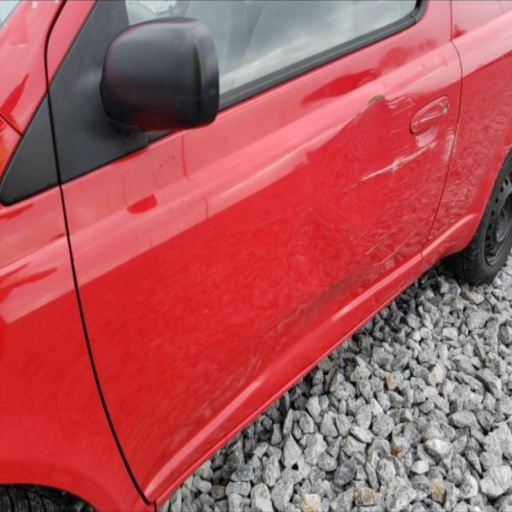dent: (306, 68, 455, 277), (237, 283, 362, 411), (302, 39, 446, 102)
rust: (364, 88, 389, 109)
scratch: (342, 135, 440, 196), (372, 218, 427, 270), (361, 214, 416, 258), (375, 220, 424, 262), (380, 86, 426, 121), (441, 120, 463, 166), (368, 225, 399, 255), (410, 109, 444, 132), (387, 101, 419, 118), (380, 121, 407, 138), (385, 92, 412, 108), (411, 111, 444, 124), (385, 125, 406, 138), (398, 144, 410, 152), (410, 129, 419, 134)
